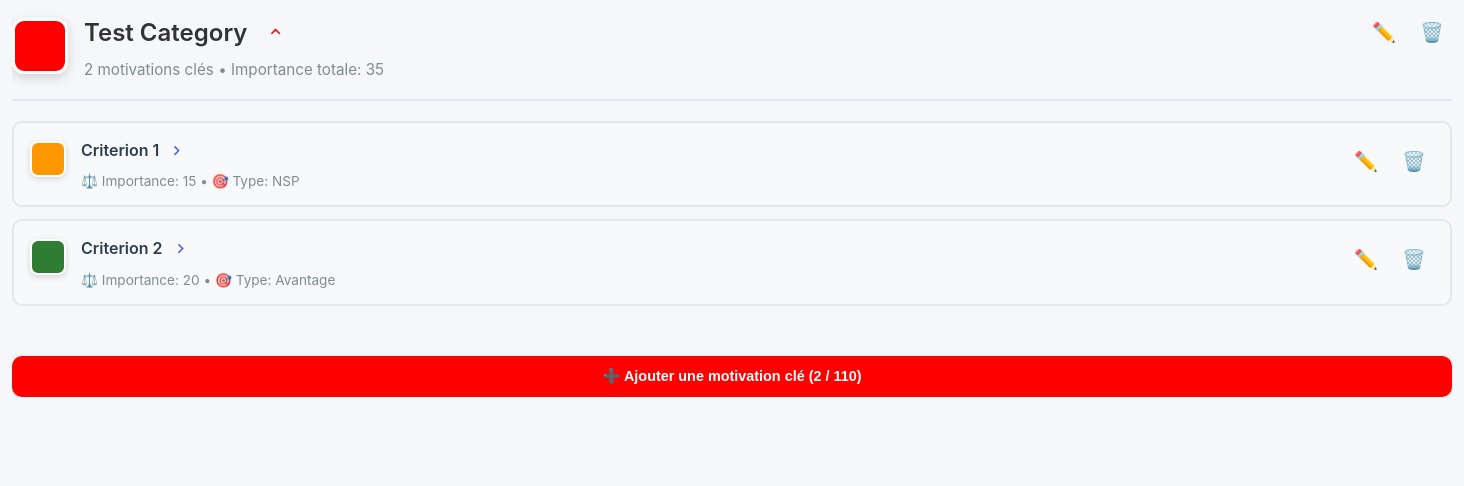
CategoryDetail › should show edit form when edit button is clicked
What coordinates should you click on to do the following:
click the button named "modifier l'intérêt professionnel"
I would click on:
 (1384, 32)
Its box is [1364, 12, 1404, 52].
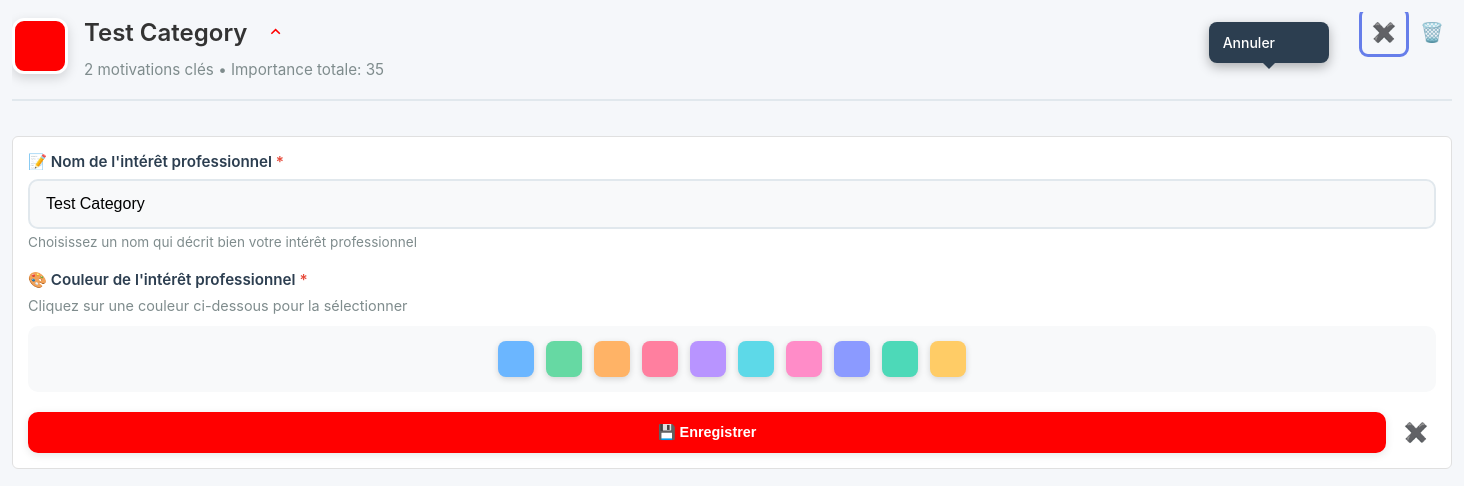
Result: the field labelled "📝 Nom de l'intérêt professionnel *" is shown at [28, 179, 1436, 229]
